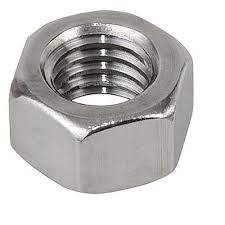Thread: (39, 18, 168, 116)
